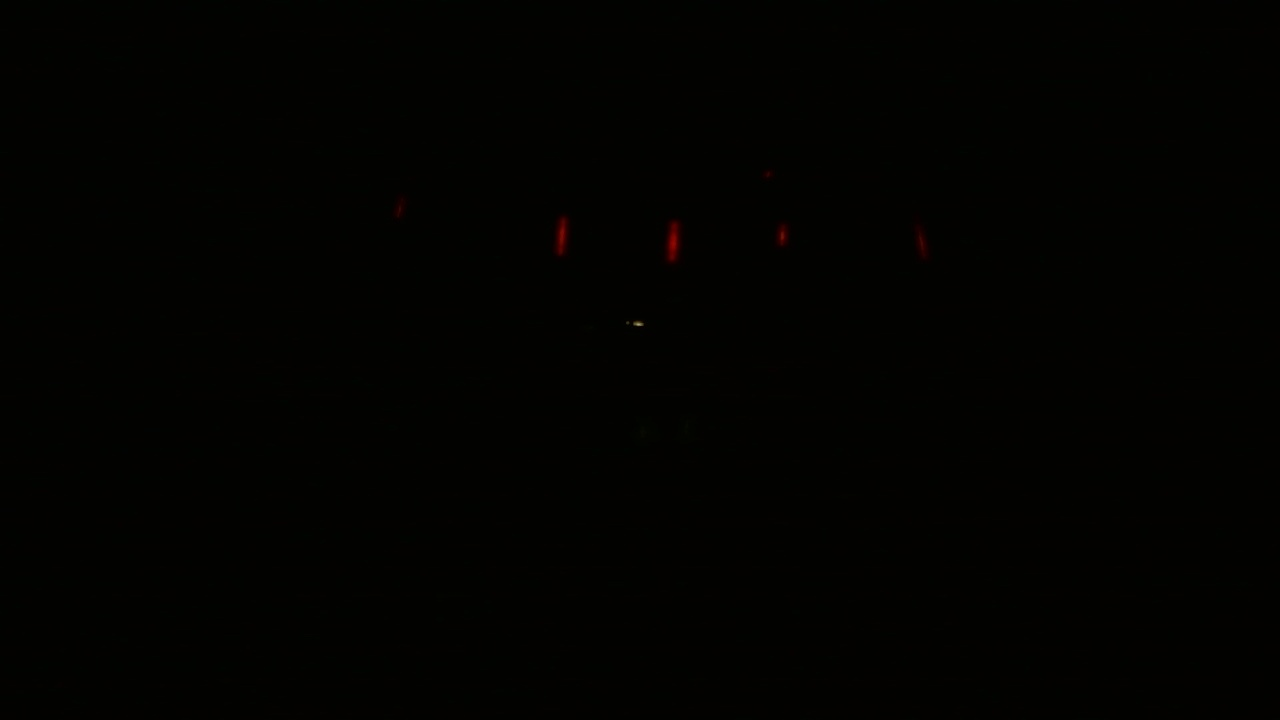pair1: (552, 212, 684, 263)
